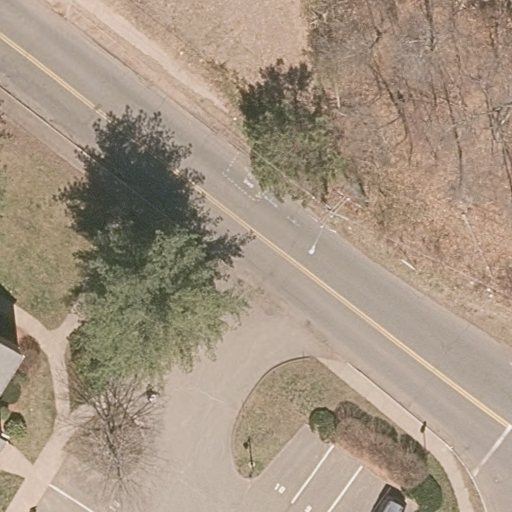DT: (308, 197, 348, 256)
